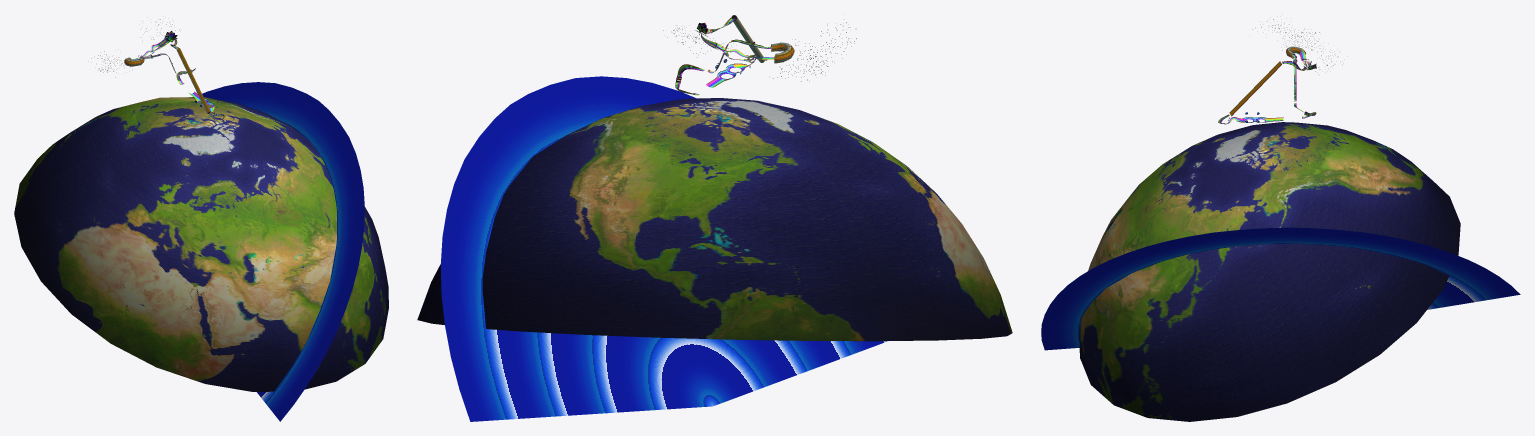
Rendered from rainbow_road.glb.
3 views of the same model, side by side, from view 1: azimuth 30°, elevation 25°; view 2: azimuth 150°, elevation 25°; view 3: azimuth 270°, elevation 25° (orthographic). The views are drawn at different scales.
Visible parts, largest first — view 1: polygon19, polygon20, polygon100, polygon270; view 2: polygon19, polygon20, polygon100, polygon270; view 3: polygon19, polygon20, polygon100, polygon270.
Boxes of the visible parts, <box> form: polygon19: <box>14,97,388,391</box>; polygon20: <box>202,82,364,421</box>; polygon100: <box>132,39,224,120</box>; polygon270: <box>124,48,210,114</box>; polygon19: <box>417,98,1012,341</box>; polygon20: <box>440,76,888,421</box>; polygon100: <box>675,18,774,95</box>; polygon270: <box>731,15,794,63</box>; polygon19: <box>1079,122,1460,421</box>; polygon20: <box>1041,227,1520,350</box>; polygon100: <box>1218,51,1316,124</box>; polygon270: <box>1229,46,1305,116</box>.
Size of the model in its own units: 3354 by 2824 by 4012.
Materials: 18 (18 with a texture image).
